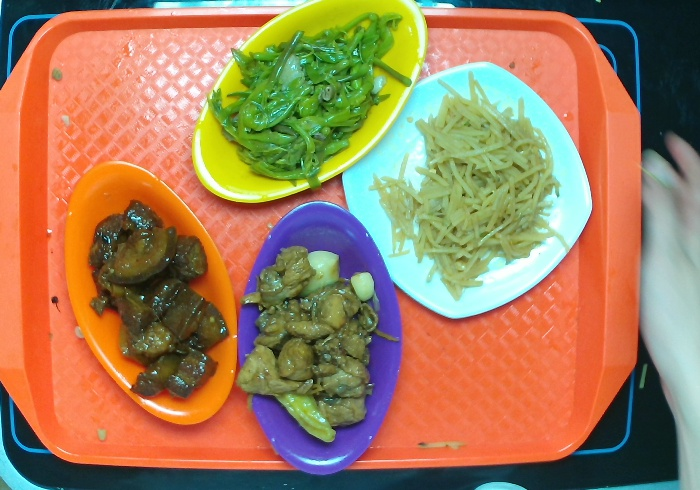RJxy-Fen_Hong_Tuo_Yuan: (229, 194, 405, 480)
RJxy-Huang_Se_Tuo_Yuan: (185, 2, 431, 210)
RJxy-Ju_Huang_Tuo_Yuan: (57, 154, 242, 429)
RJxy-Si_Fang_Die: (335, 60, 593, 328)
